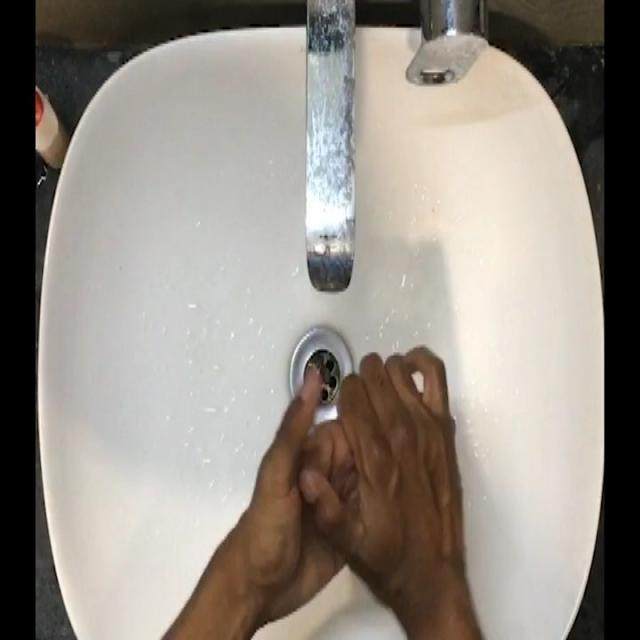step_5: (239, 332, 476, 625)
